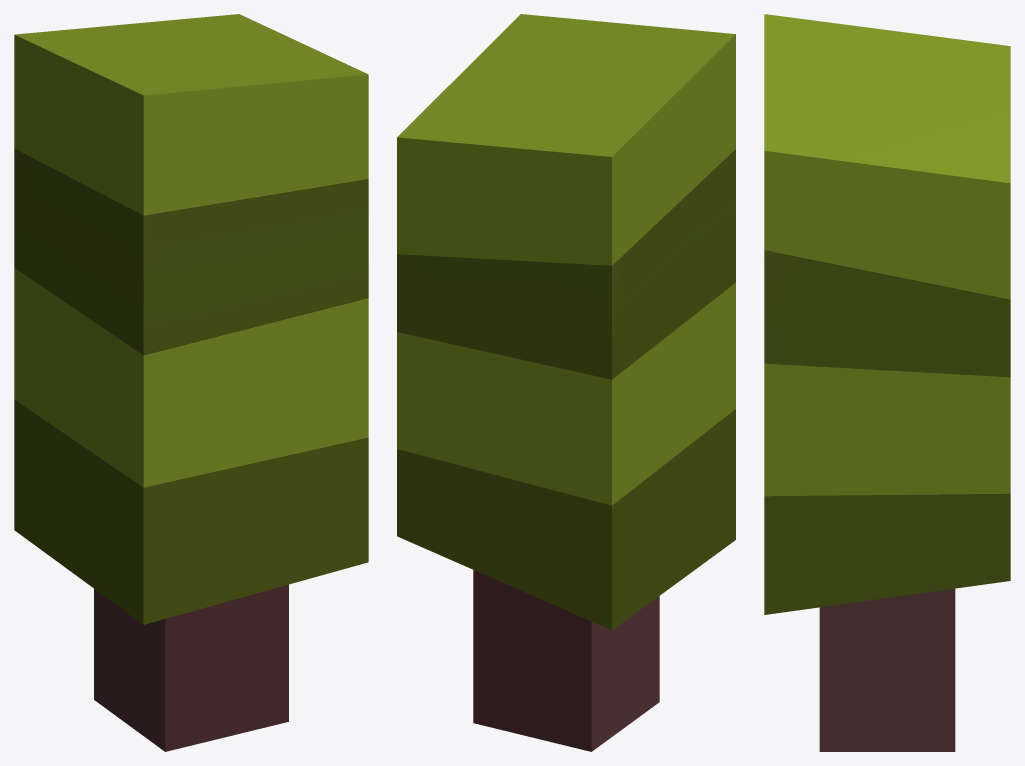
Rendered from tree1.FBX.
3 views of the same model, side by side, from view 1: azimuth 30°, elevation 25°; view 2: azimuth 150°, elevation 25°; view 3: azimuth 270°, elevation 25° (orthographic). The views are drawn at different scales.
Visible parts, largest first — view 1: tree1; view 2: tree1; view 3: tree1.
Part boxes in pixels (x1,y1,x2,y2): tree1: [14, 14, 368, 751]; tree1: [397, 14, 735, 751]; tree1: [764, 14, 1010, 751].
Bounding box in the file's own units: 18.42 × 18.37 × 53.99.
